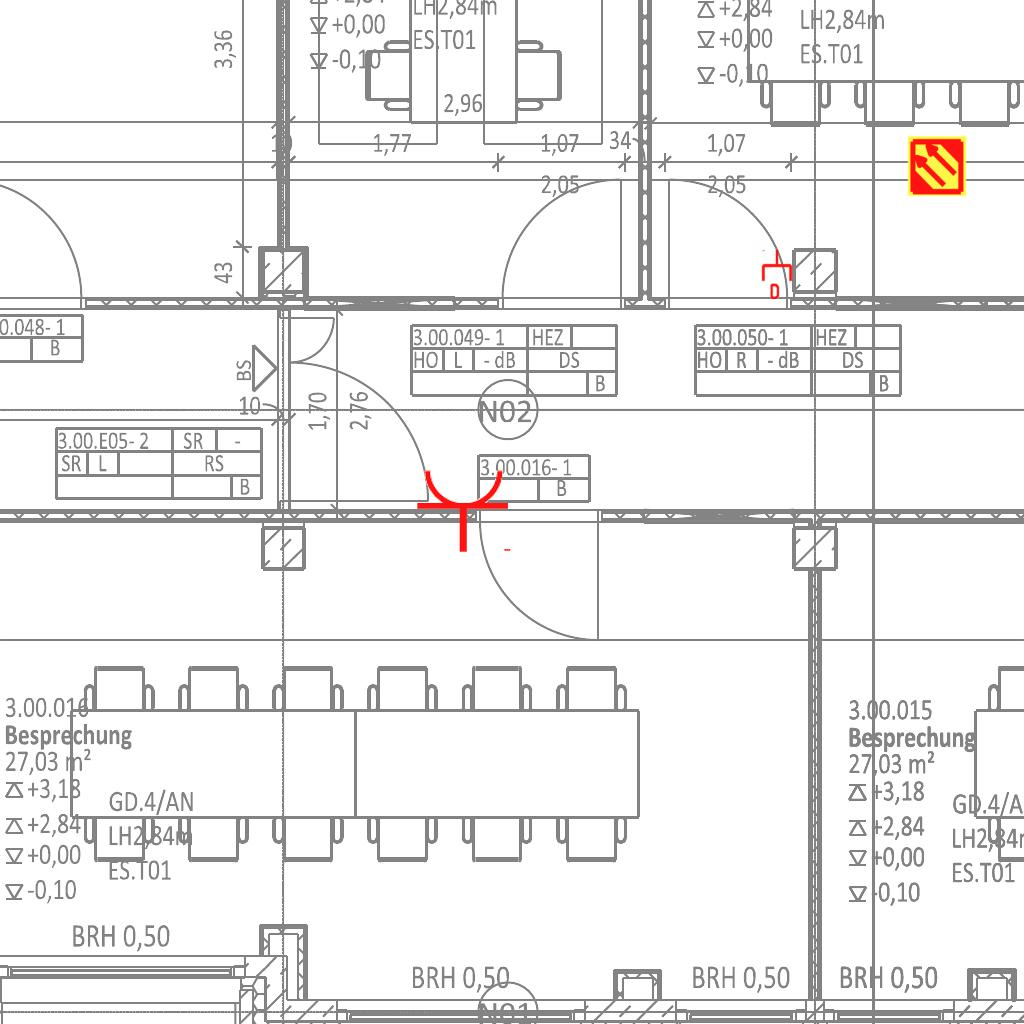ASR_Ansaugrauchmelder: (906, 135, 968, 197)
Datenanschluss_einfach: (760, 249, 794, 299)
Schukosteckdose_einfach: (415, 467, 515, 554)
